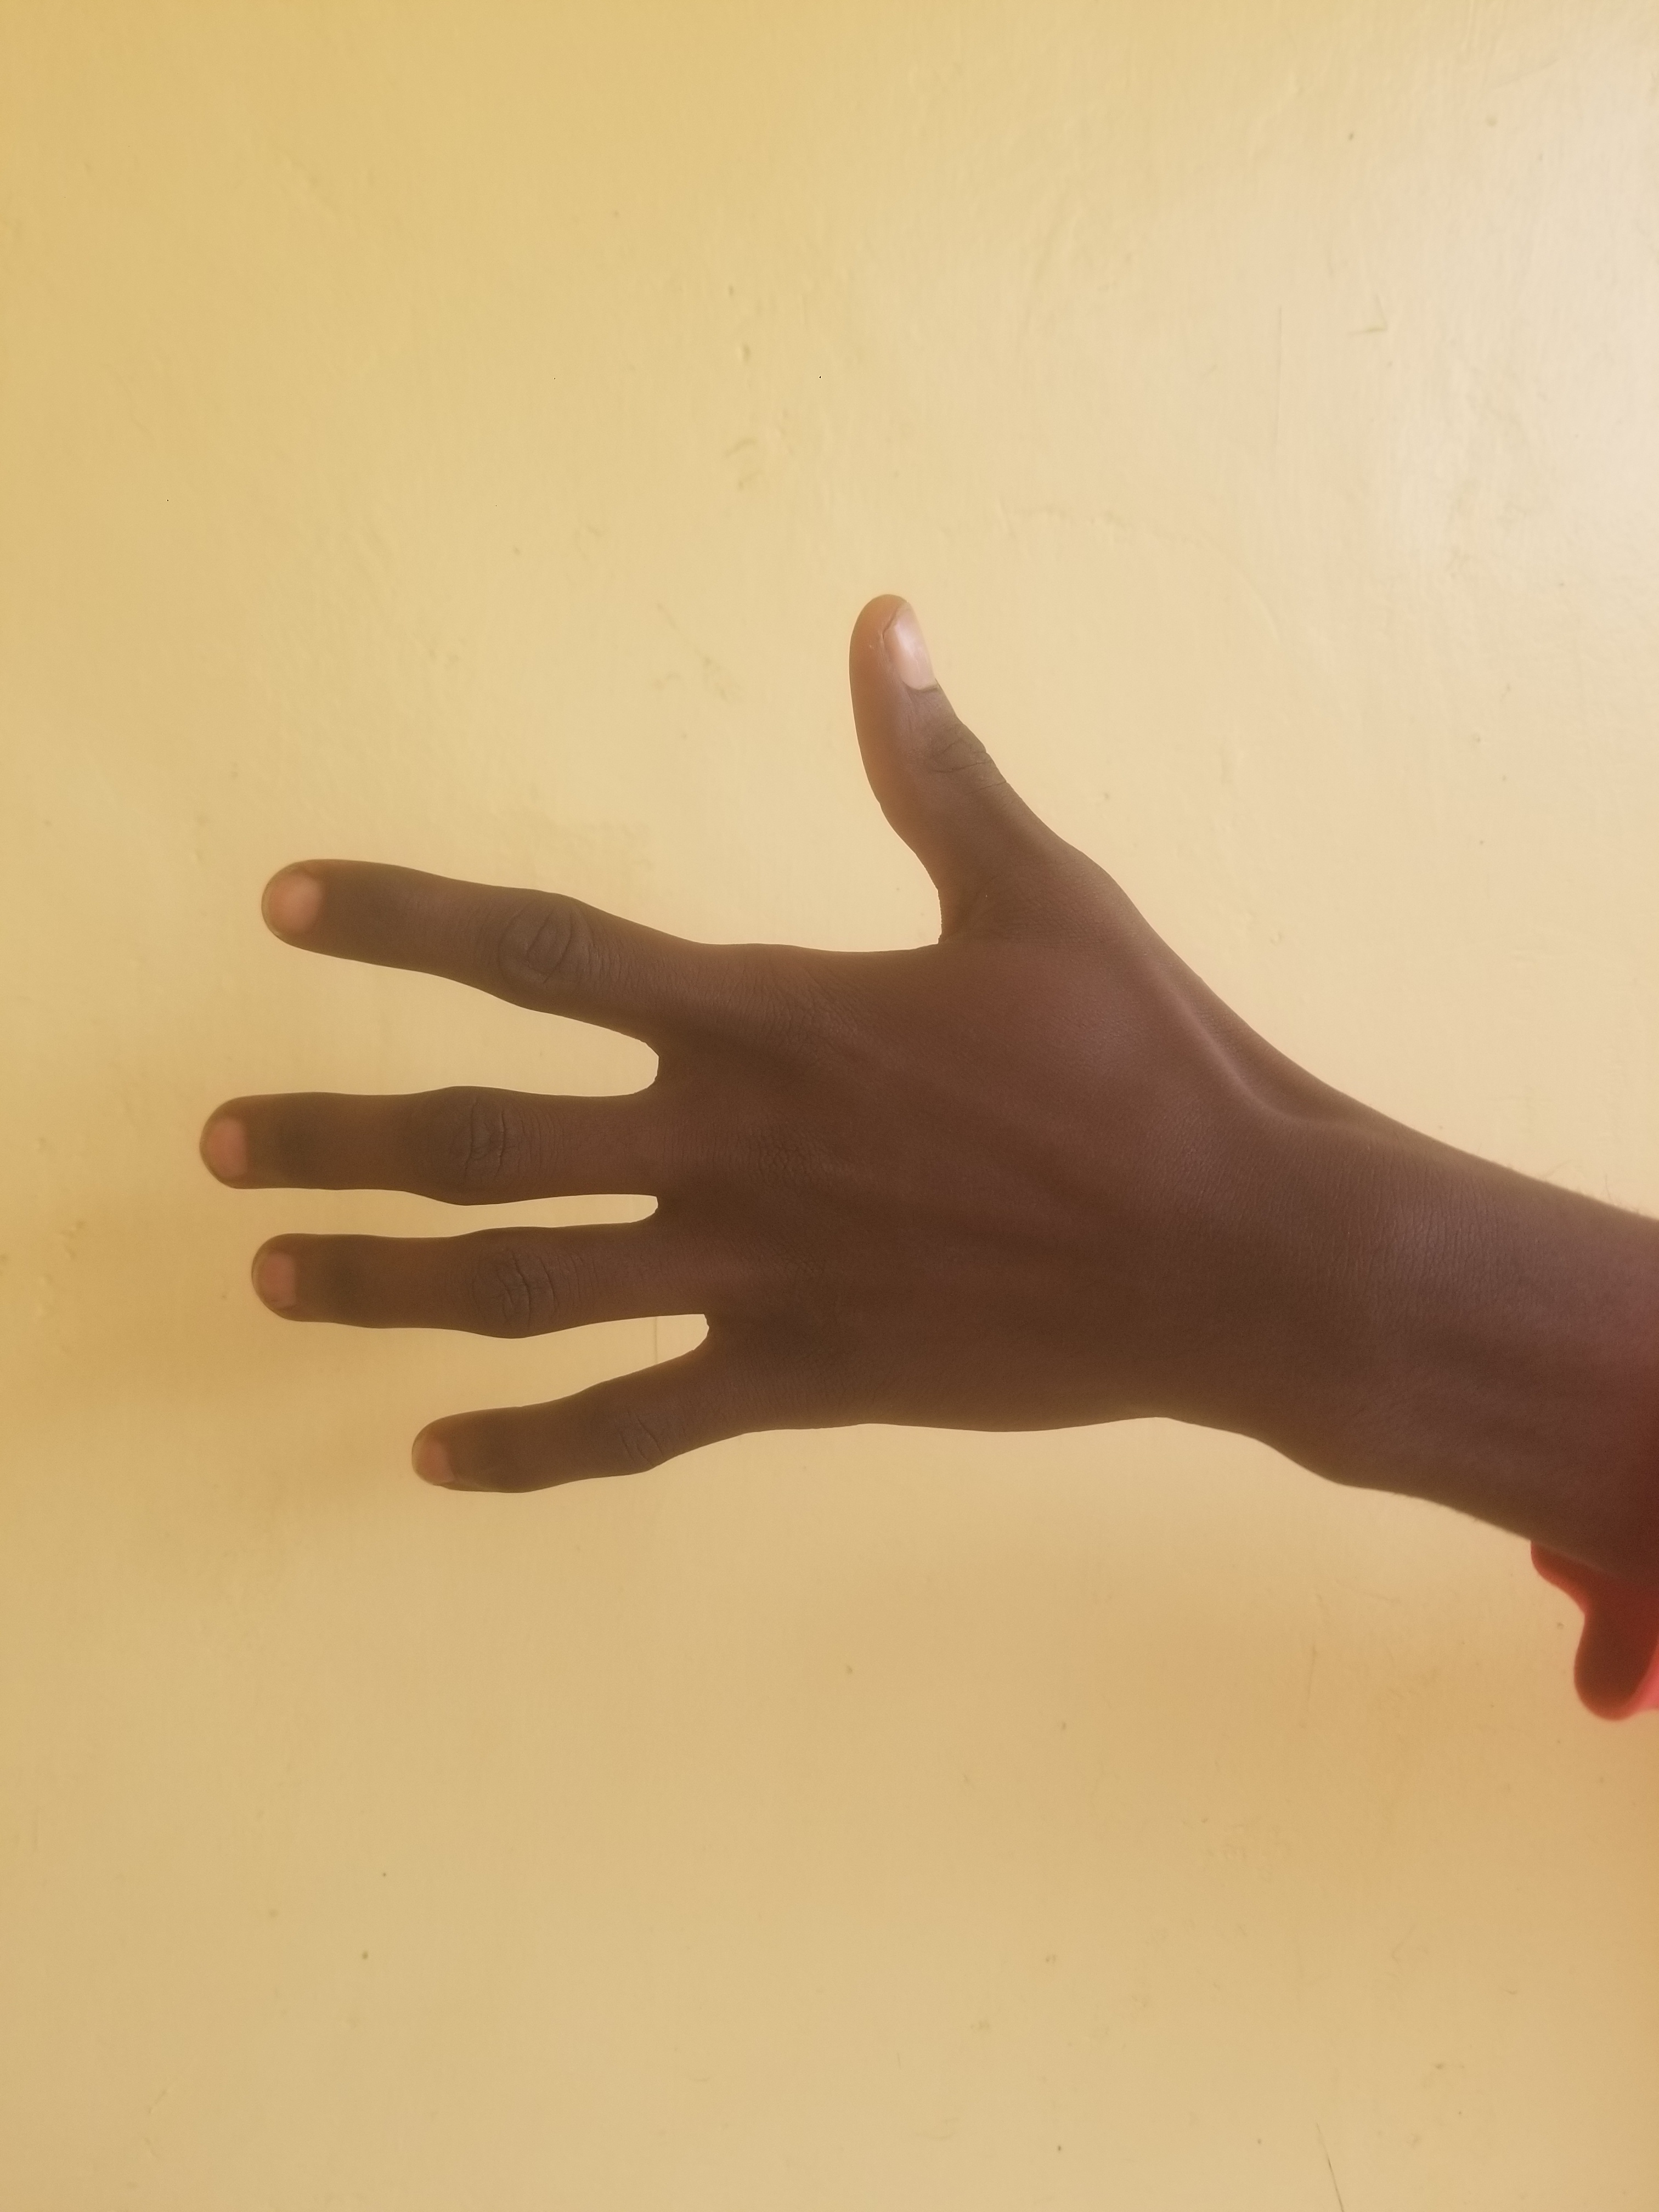open palm: (267, 336, 1422, 2019)
